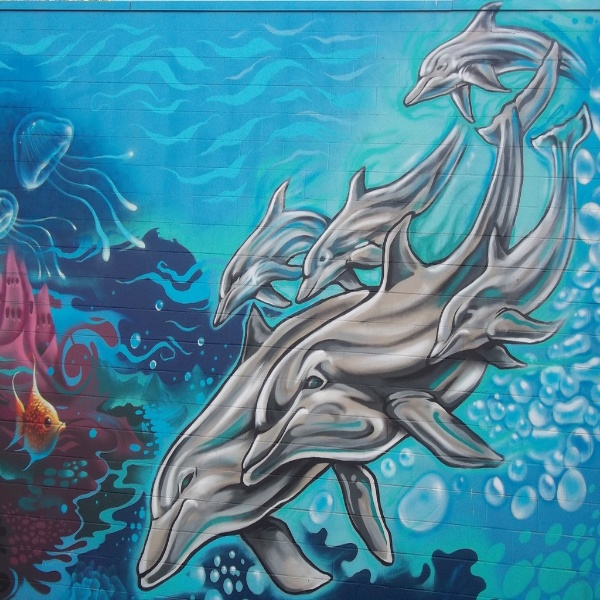Jellyfish: (0, 188, 79, 281), (9, 107, 63, 191)
